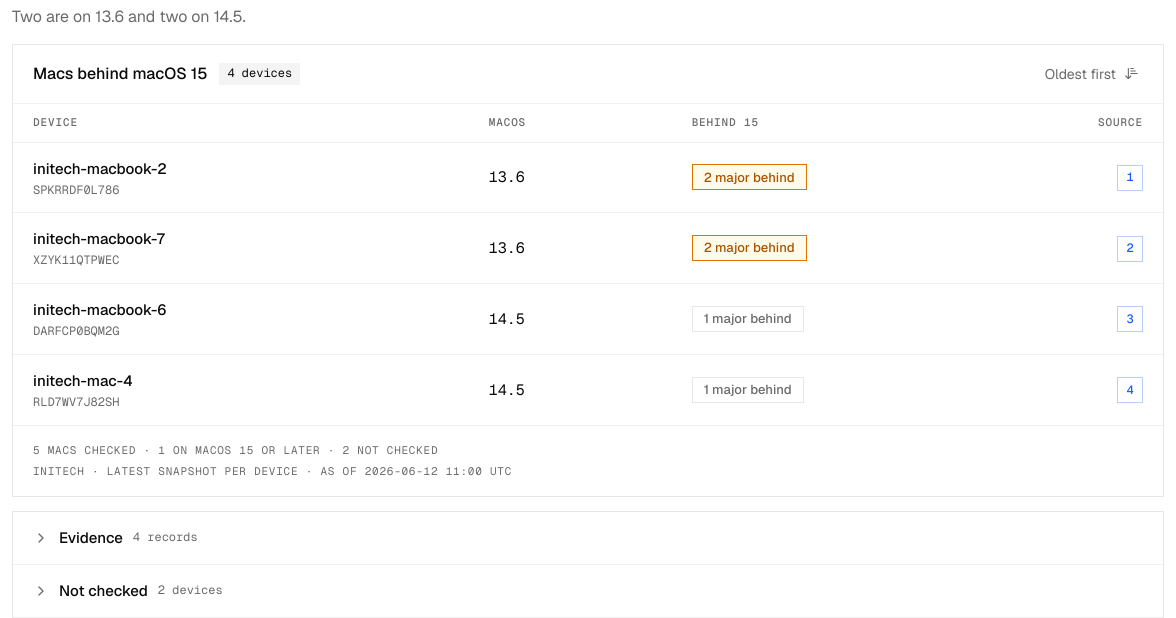
Test case: the disclosures › lists the evidence as numbered rows: hostname, what was read, when, with no raw reference
Click the button "Evidence 4 records" at (91, 537), box [13,512,1163,564]
(page scrolled)
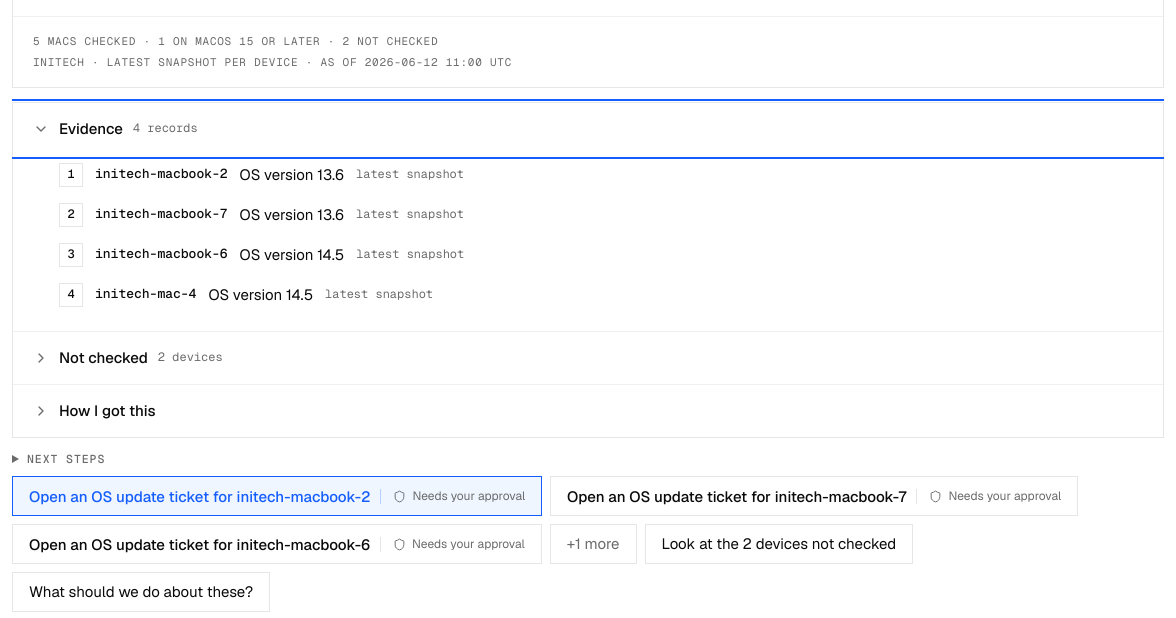
Result: the number of list items is 4 at [59,162,464,186]; [59,202,464,226]; [59,242,464,266]; [59,282,433,306]
Result: the list item "1 initech-macbook-2 OS version 13.6 latest snapshot" is shown at [59,162,464,186]
Result: the list item "4 initech-mac-4 OS version 14.5 latest snapshot" is shown at [59,282,433,306]
